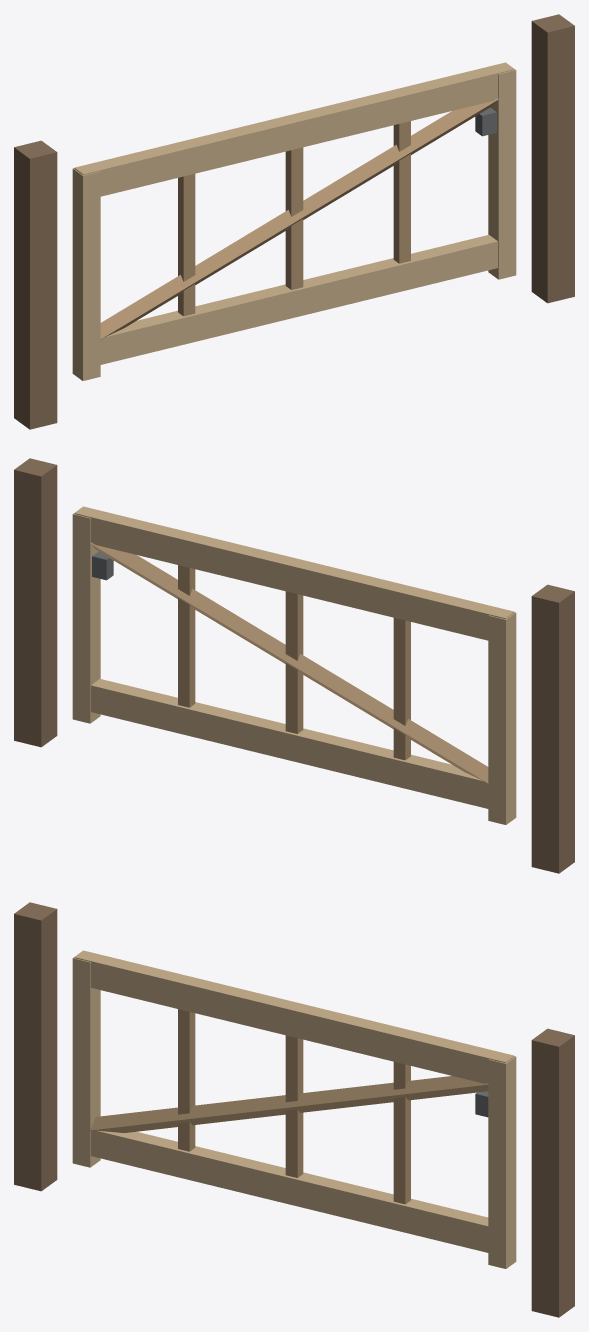
File: farm_gate.glb
3 views of the same model, one above another, from view 1: azimuth 30°, elevation 25°; view 2: azimuth 150°, elevation 25°; view 3: azimuth 330°, elevation 25° (orthographic).
Parts seen in each view (by area): view 1: farm_gate; view 2: farm_gate; view 3: farm_gate.
Boxes of the visible parts, x1,y1,x2,y2 form: farm_gate: (14,14,574,429); farm_gate: (14,458,574,873); farm_gate: (14,902,574,1317).
Bounding box in the file's own units: 2.78 × 1.32 × 0.14.
